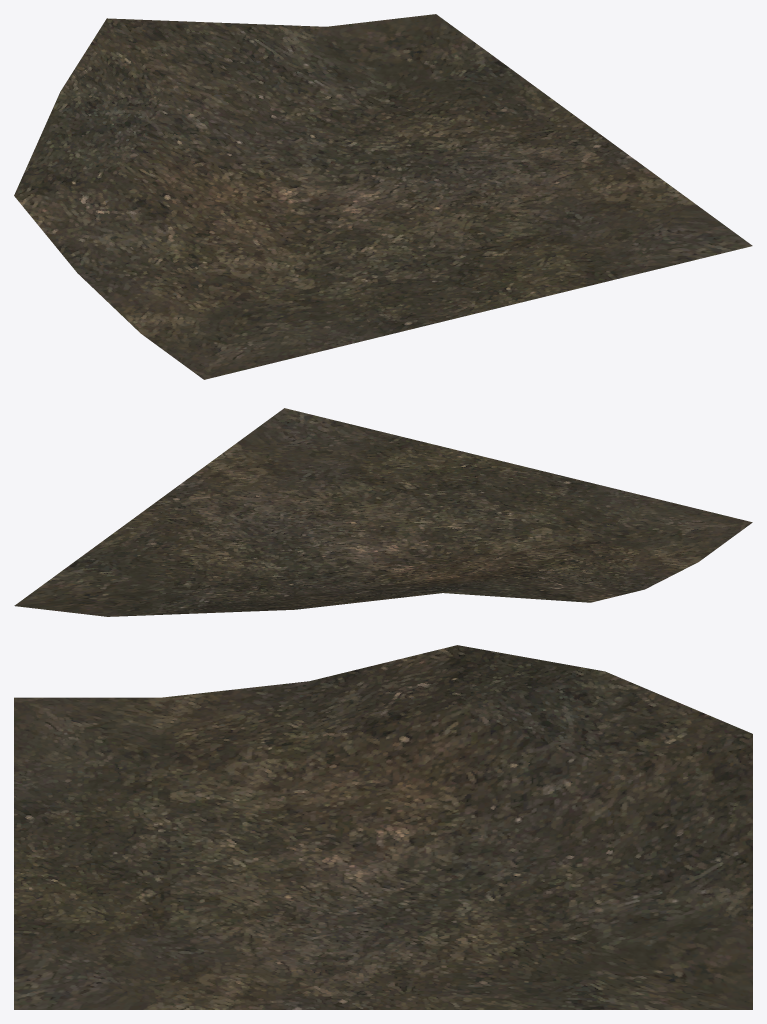
The model's file is blend_weeds03.fbx.
3 renders of one model, top to bottom at view 1: azimuth 30°, elevation 25°; view 2: azimuth 150°, elevation 25°; view 3: azimuth 270°, elevation 25°, orthographic. The views are drawn at different scales.
Parts seen in each view (by area): view 1: obj0.024; view 2: obj0.024; view 3: obj0.024.
Part boxes in pixels (<box>): obj0.024: <box>14,14,752,379</box>; obj0.024: <box>14,408,752,616</box>; obj0.024: <box>14,645,752,1009</box>.
Bounding box in the file's own units: 12.5 × 1.65 × 12.5.
